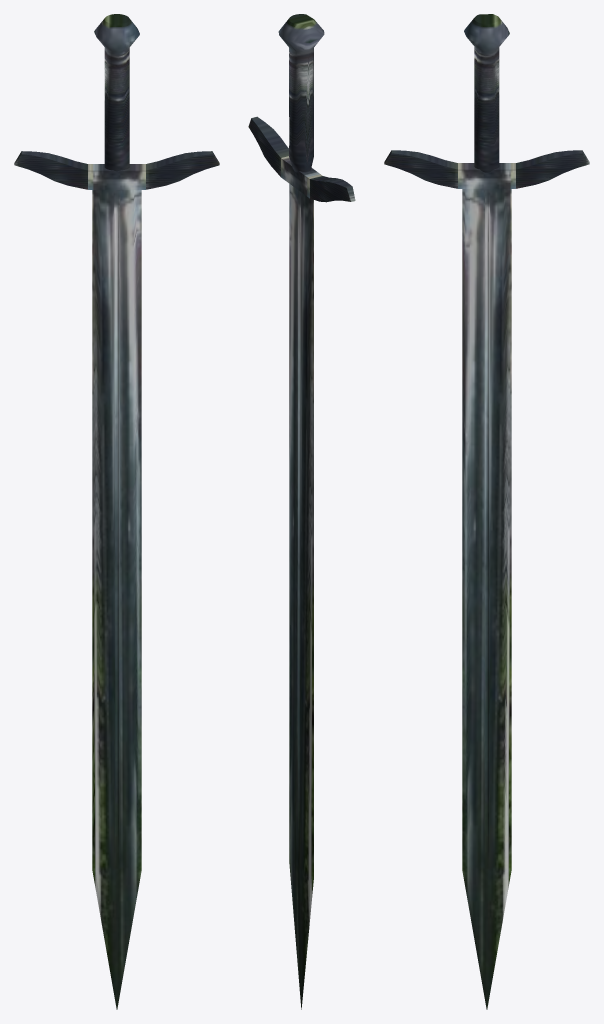
Rendered from sword.glb.
The picture shows the model from 3 angles, left to right: view 1: azimuth 90°, elevation 25°; view 2: azimuth 210°, elevation 25°; view 3: azimuth 270°, elevation 25°; orthographic projection.
Visible parts, largest first — view 1: sword.ms3d.mo; view 2: sword.ms3d.mo; view 3: sword.ms3d.mo.
Boxes of the visible parts, left/top/right/bottom form: sword.ms3d.mo: left=14, top=14, right=219, bottom=1009; sword.ms3d.mo: left=248, top=14, right=355, bottom=1009; sword.ms3d.mo: left=384, top=14, right=589, bottom=1009.
Size of the model in its own units: 9.59 by 232 by 43.53.
1 material, 1 textured.
